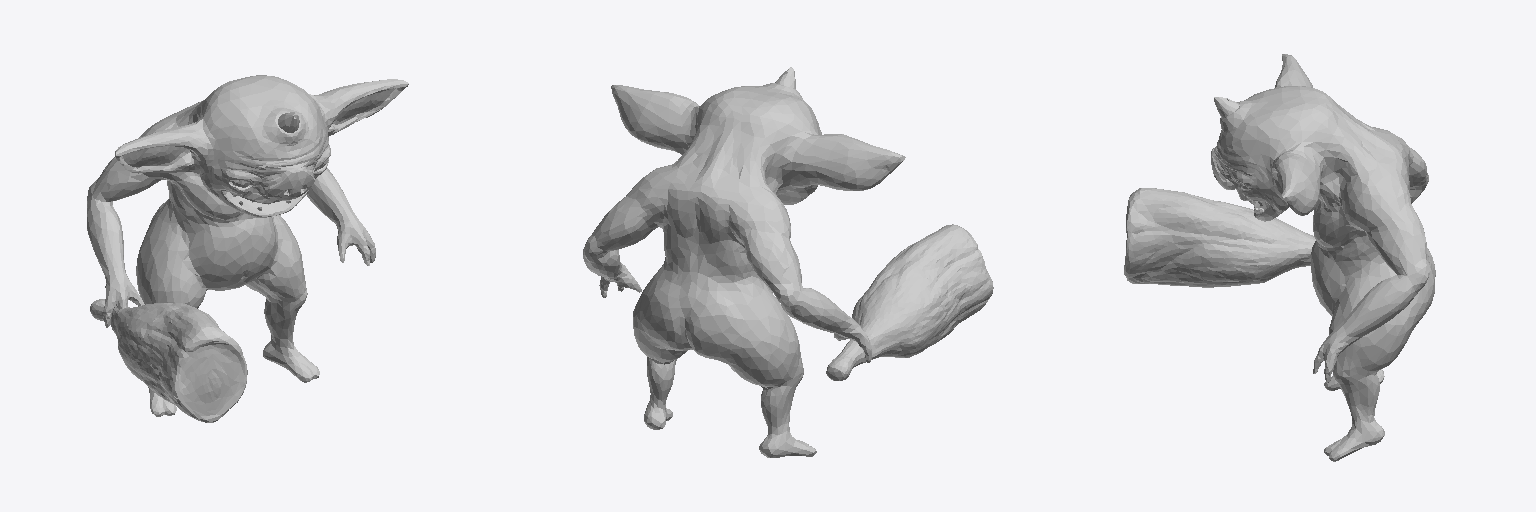
Rendered from Bokoblin2.obj.
3 views of the same model, side by side, from view 1: azimuth 30°, elevation 25°; view 2: azimuth 150°, elevation 25°; view 3: azimuth 270°, elevation 25° (orthographic).
Visible parts, largest first — view 1: Group18025; view 2: Group18025; view 3: Group18025.
Part boxes in pixels (bbox=[...]): Group18025: bbox=[87, 75, 408, 422]; Group18025: bbox=[583, 67, 993, 457]; Group18025: bbox=[1124, 54, 1435, 461].
Size of the model in its own units: 3.04 by 3.08 by 2.66.